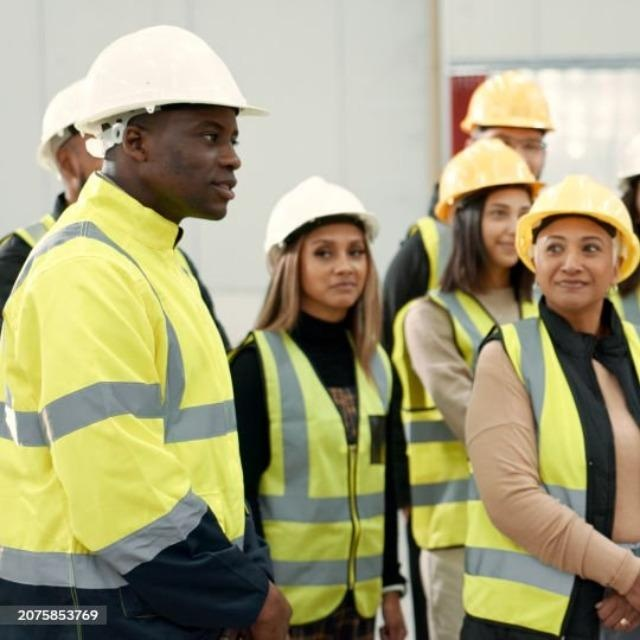Con_Casco: (82, 26, 268, 219), (515, 175, 640, 313), (263, 174, 378, 310)
Con_Chaleco: (0, 220, 235, 603), (465, 319, 640, 629), (223, 325, 400, 621)
